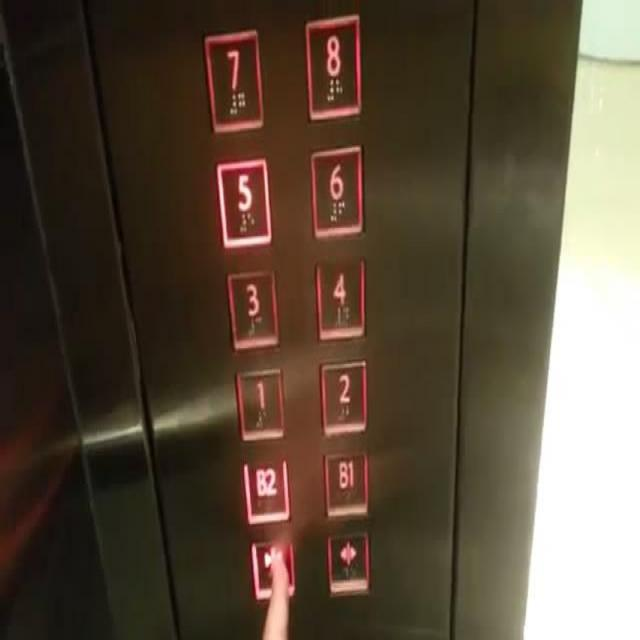1: (235, 360, 287, 440)
2: (318, 356, 370, 437)
3: (224, 263, 281, 353)
4: (313, 252, 366, 337)
5: (214, 155, 273, 248)
6: (308, 144, 364, 237)
7: (201, 24, 268, 136)
8: (302, 10, 365, 121)
B1: (322, 446, 372, 518)
B2: (240, 452, 290, 525)
open: (326, 525, 372, 595)
